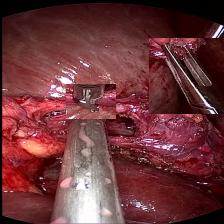Clipper: (64, 84, 114, 119)
Grasper: (148, 38, 224, 114)
